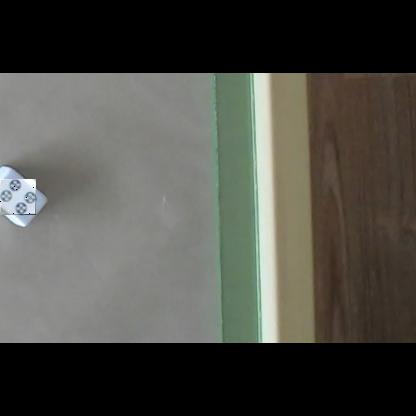4p: (0, 179, 36, 215)
